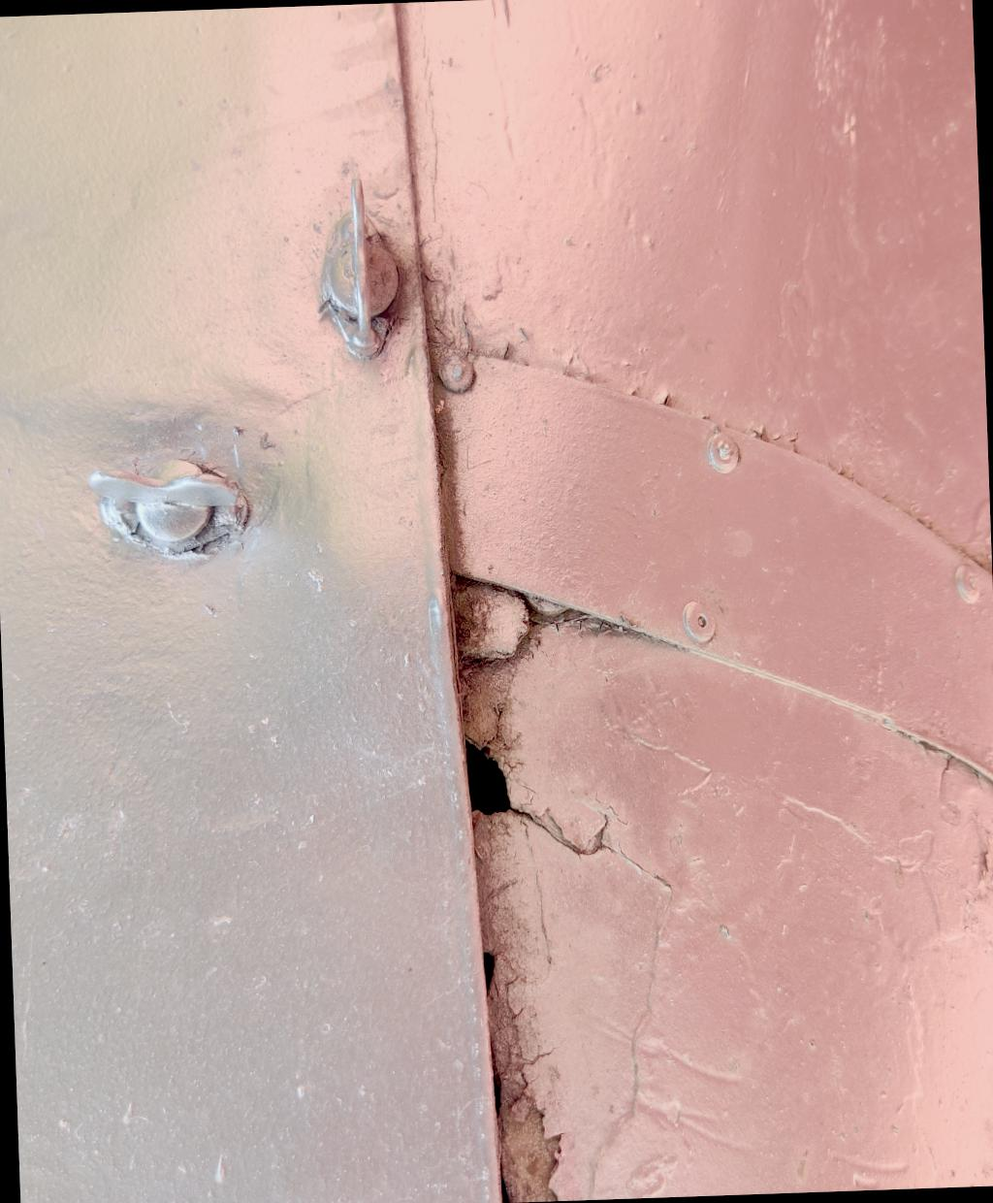crack: (581, 407, 734, 632)
